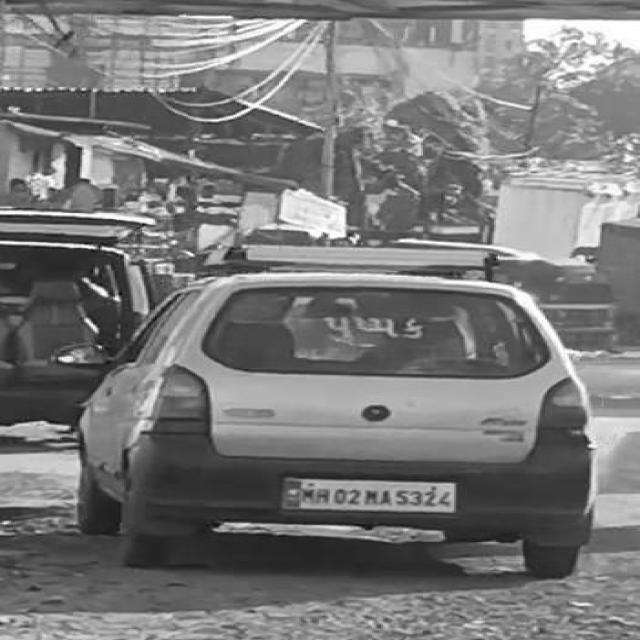car: (66, 270, 600, 582)
license-plate: (283, 477, 463, 513)
